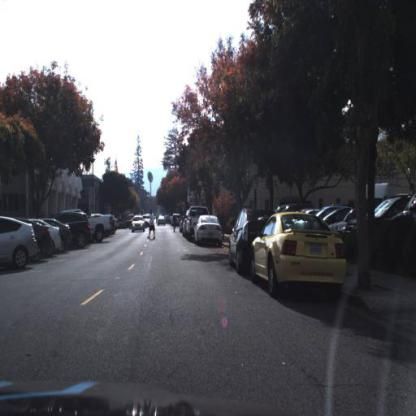car: (246, 211, 348, 297), (227, 203, 258, 279), (2, 216, 38, 271), (193, 211, 228, 249), (34, 218, 55, 263), (86, 212, 115, 243), (73, 209, 94, 249), (92, 210, 114, 246), (130, 210, 147, 235), (51, 223, 63, 258), (125, 217, 135, 231)
pedestrian: (147, 208, 157, 242), (173, 214, 178, 235)
